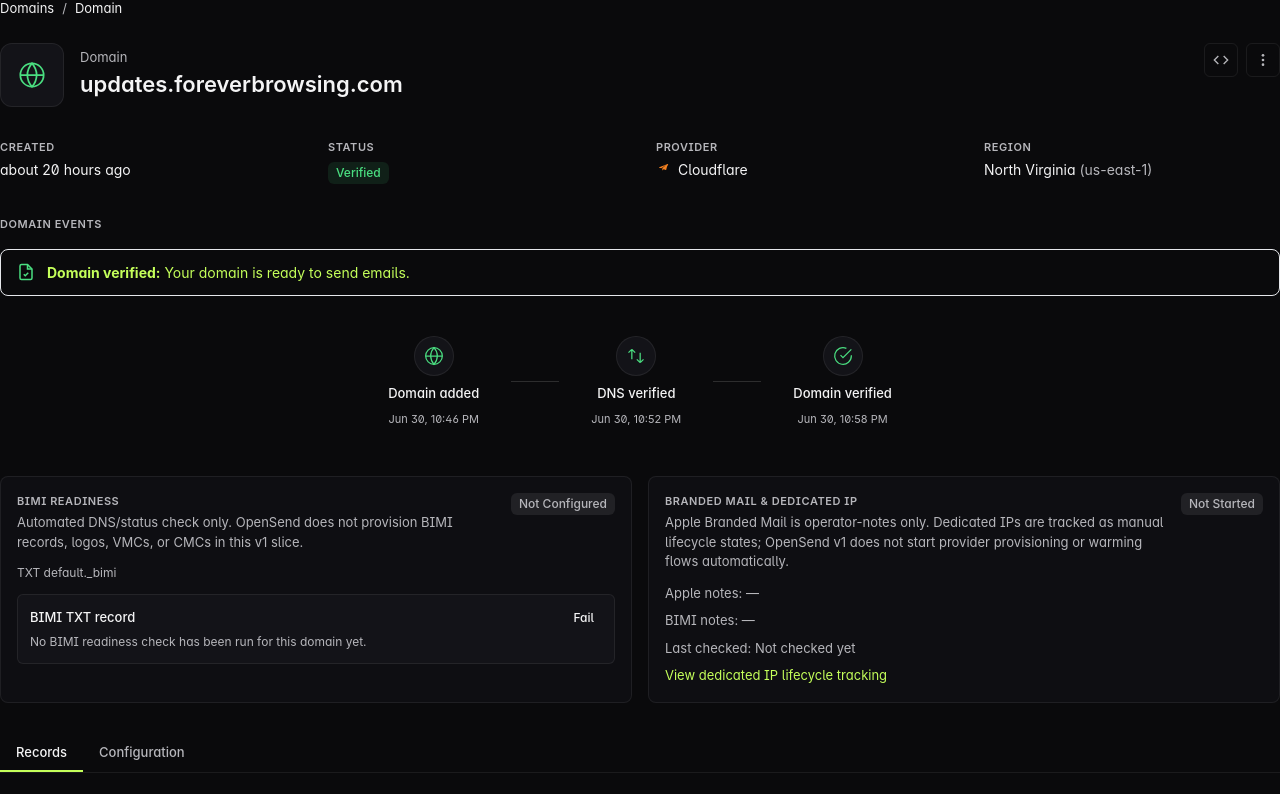
it: DomainDetail › switches to Configuration tab
The width and height of the screenshot is (1280, 794).
Click the button "Configuration" at [142, 753], box [83,734,201,772]
(page scrolled)
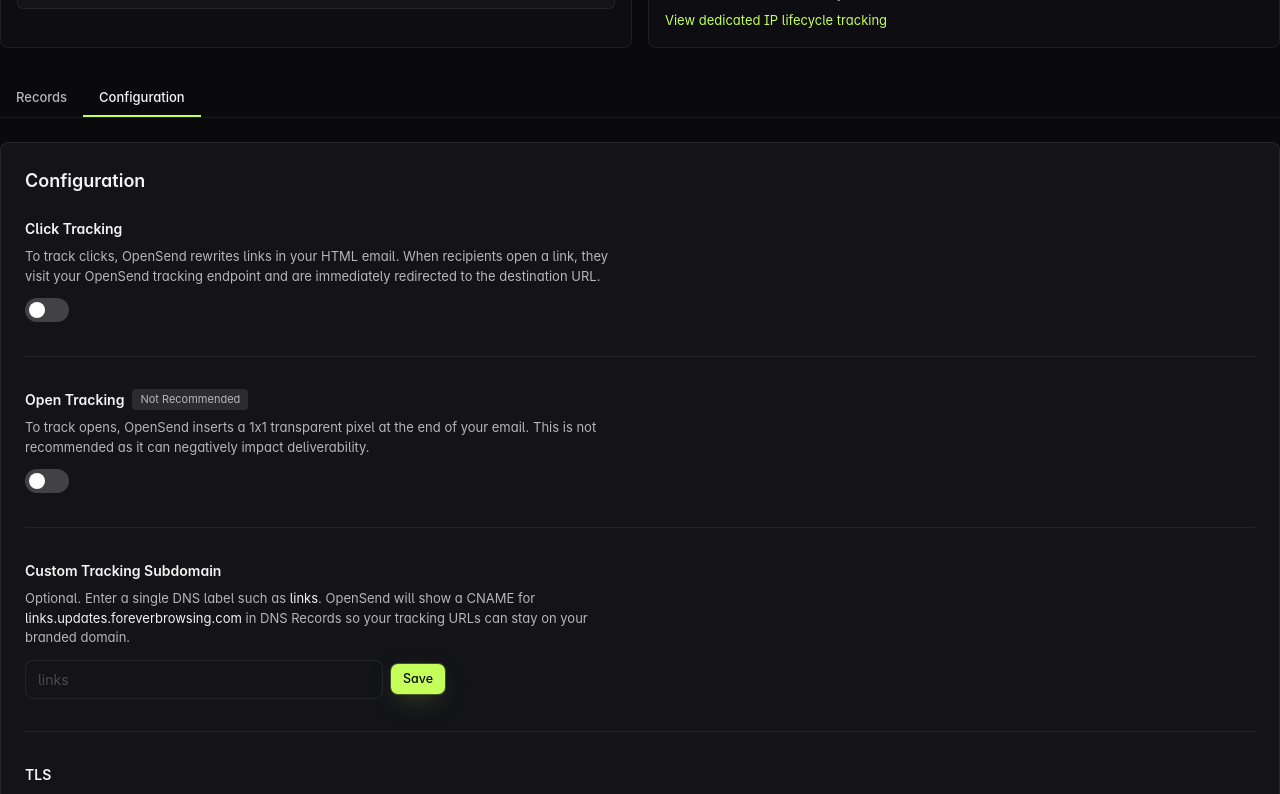
Expected: the heading "Click Tracking" is shown, [25,220,122,237]
Expected: the heading "Open Tracking" is shown, [25,389,124,410]
